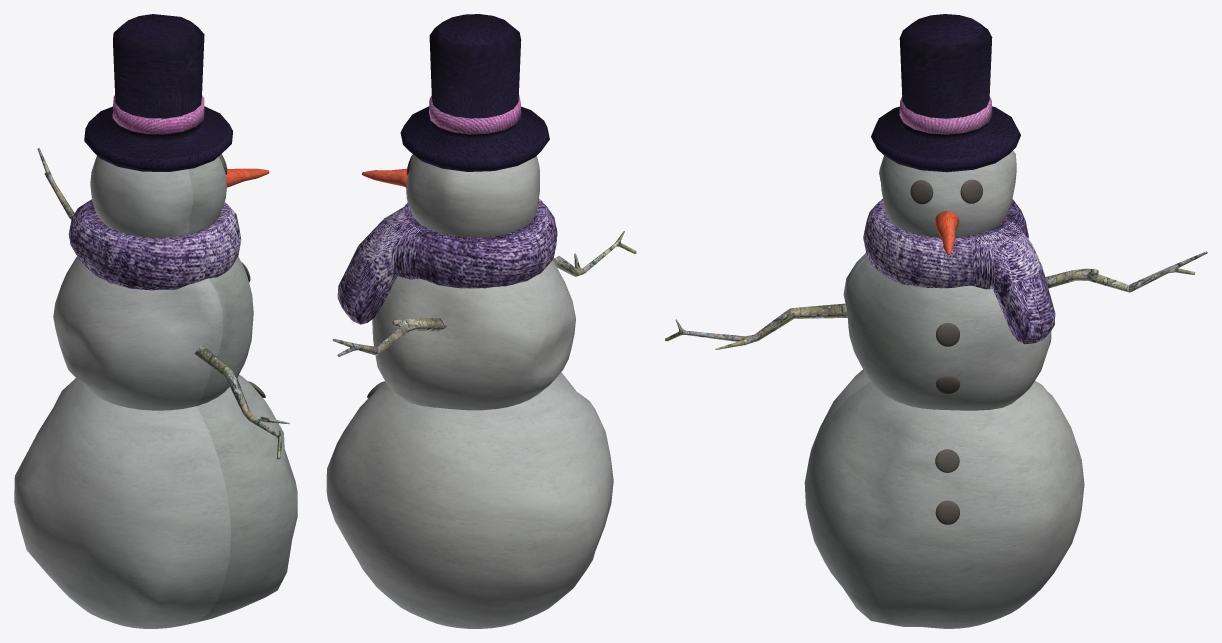
File: Snowman.fbx
The picture shows the model from 3 angles, left to right: view 1: azimuth 30°, elevation 25°; view 2: azimuth 150°, elevation 25°; view 3: azimuth 270°, elevation 25°; orthographic projection.
Visible parts, largest first — view 1: Unten, Mitte, Zylinder, Schal-baumelnd, Oben, Arm-links, Moehrennase, Arm-rechts; view 2: Unten, Mitte, Zylinder, Schal-baumelnd, Oben, Arm-rechts, Arm-links, Moehrennase; view 3: Unten, Mitte, Zylinder, Schal-baumelnd, Oben, Arm-links, Arm-rechts.
Part boxes in pixels (x1,y1,x2,y2): Unten: (14,374,297,628); Mitte: (53,256,253,410); Zylinder: (84,14,232,171); Schal-baumelnd: (68,199,241,290); Oben: (90,156,226,237); Arm-links: (194,345,289,459); Moehrennase: (226,168,269,187); Arm-rechts: (37,148,74,219); Unten: (326,372,613,628); Mitte: (372,260,575,410); Zylinder: (400,14,549,171); Schal-baumelnd: (337,198,557,324); Oben: (406,156,539,237); Arm-rechts: (332,318,446,356); Arm-links: (553,231,636,276); Moehrennase: (362,168,407,187); Unten: (804,369,1084,628); Mitte: (843,253,1051,410); Zylinder: (871,14,1020,172); Schal-baumelnd: (863,199,1055,344); Oben: (879,151,1016,237); Arm-links: (665,303,847,349); Arm-rechts: (1045,251,1207,292).
Size of the model in its own units: 218 by 494 by 416.
